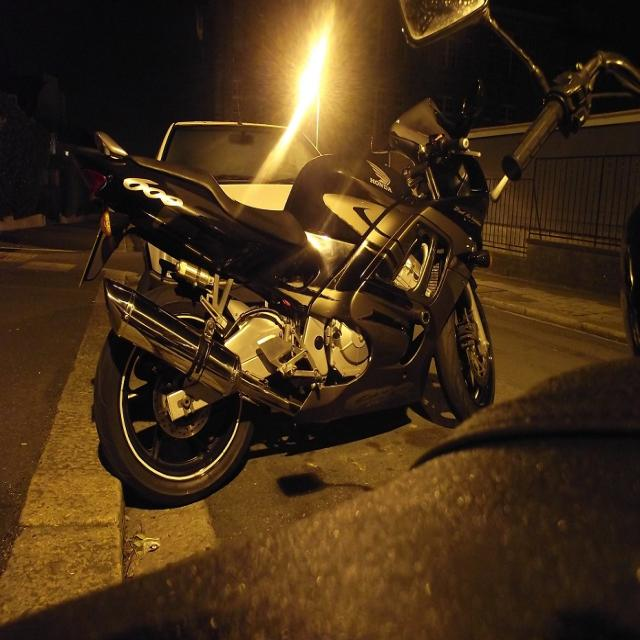Motorbike: (67, 104, 510, 518)
